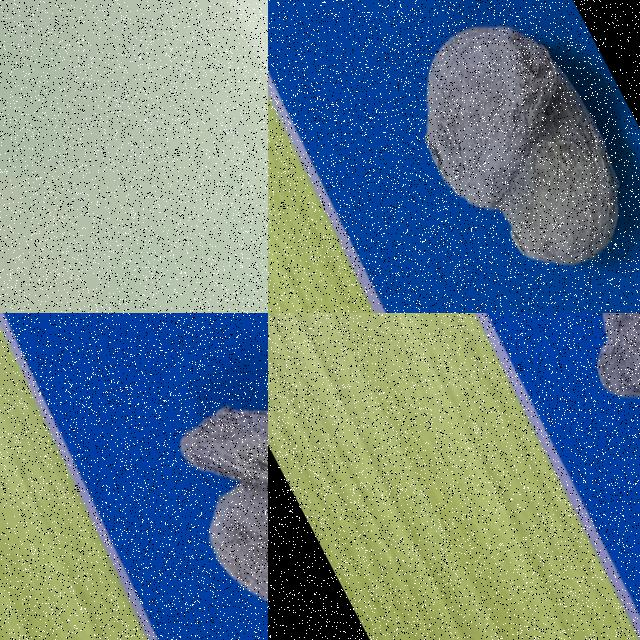Agglomerated_cocoabeans: (343, 0, 639, 312), (117, 313, 267, 639), (483, 313, 639, 534)
